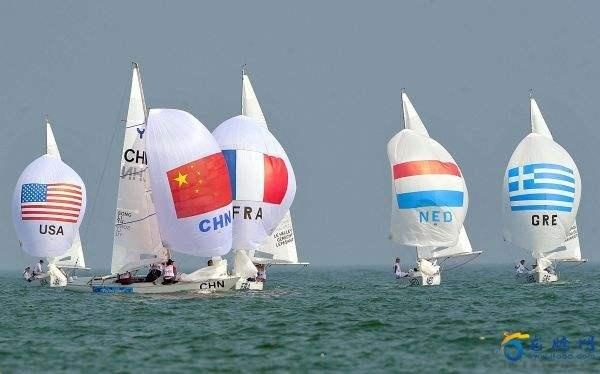fanchuan: (59, 61, 240, 293), (211, 71, 310, 291), (503, 90, 597, 286), (392, 87, 479, 290), (8, 119, 98, 290)
person: (390, 253, 416, 279), (161, 257, 182, 286), (512, 257, 532, 279)
